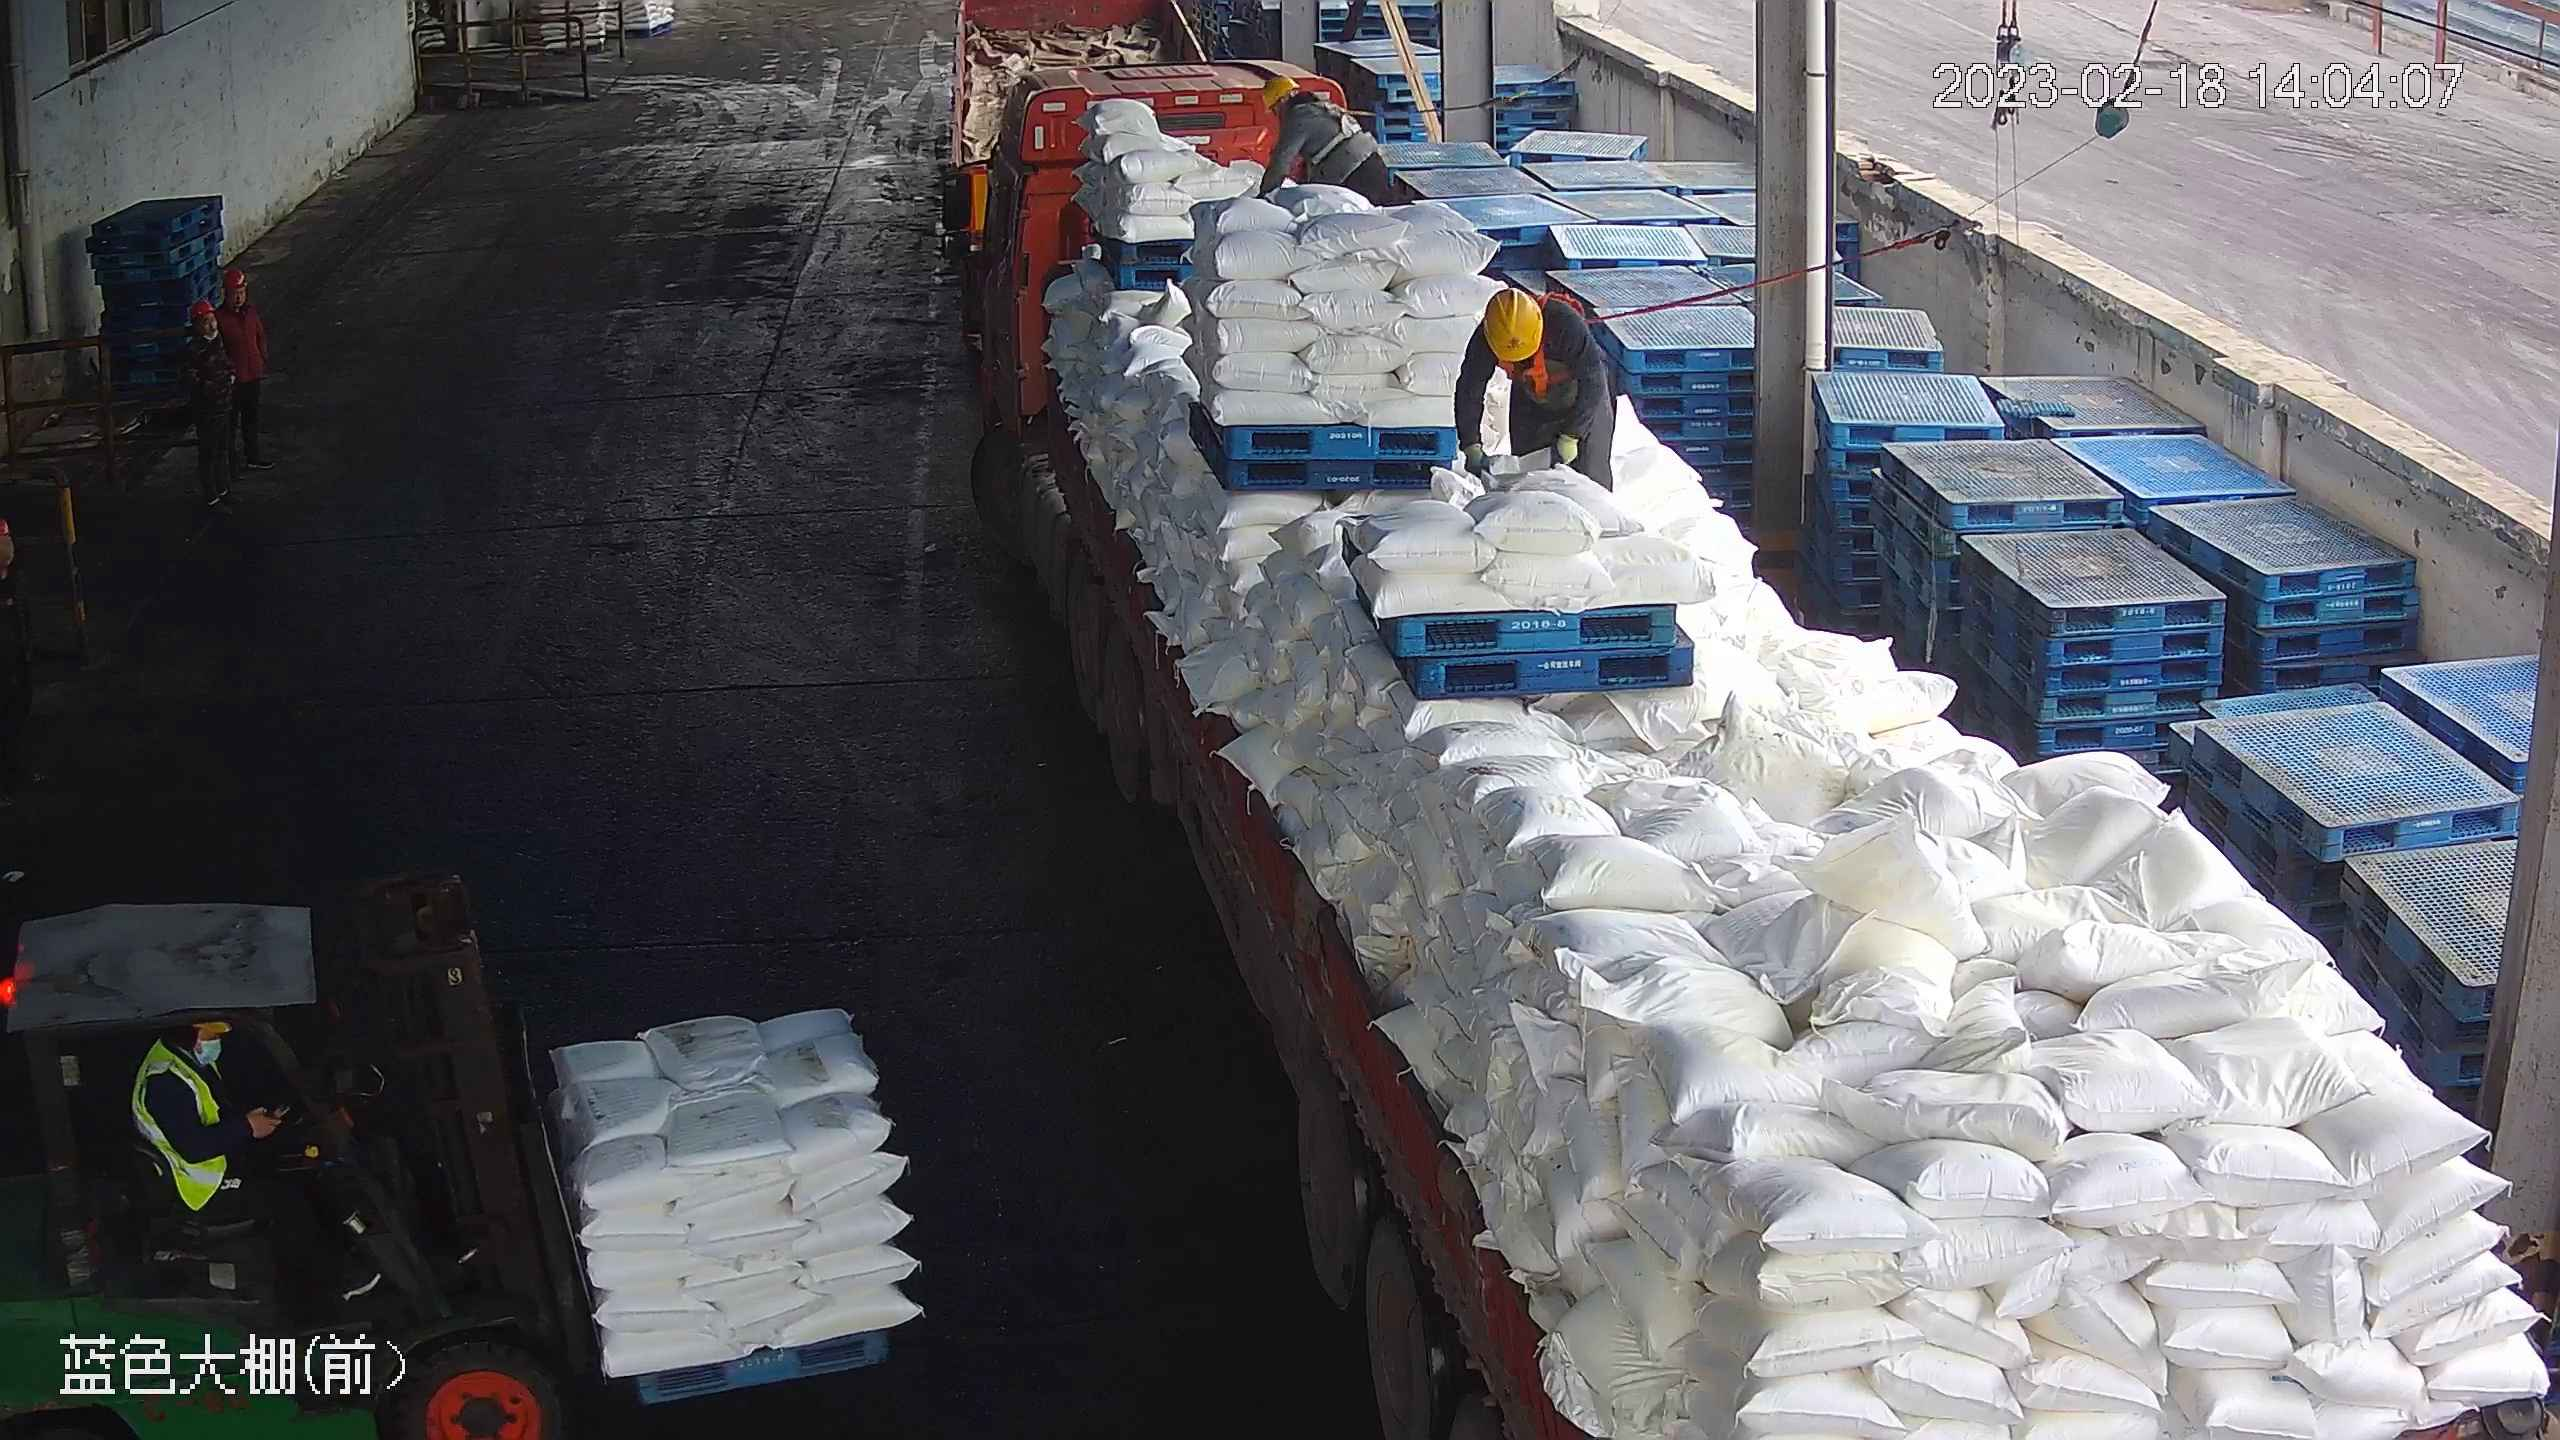belt: (1490, 289, 1594, 397), (1299, 94, 1369, 161)
head: (136, 1012, 252, 1117), (1471, 287, 1584, 374), (1256, 73, 1340, 136), (201, 266, 258, 337), (181, 298, 235, 365)
helmet: (1481, 286, 1543, 360), (1259, 70, 1296, 103), (220, 269, 248, 291), (190, 299, 216, 317)
people: (126, 1006, 319, 1272), (1452, 284, 1618, 490), (1250, 67, 1395, 204), (192, 270, 269, 504), (185, 297, 242, 506)
truck: (954, 43, 2551, 1440)
